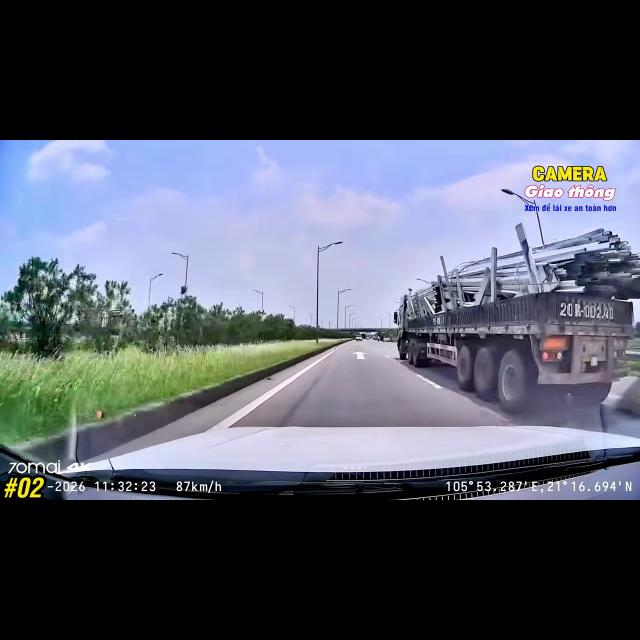car: (355, 336, 362, 340)
truck: (397, 292, 633, 413)
